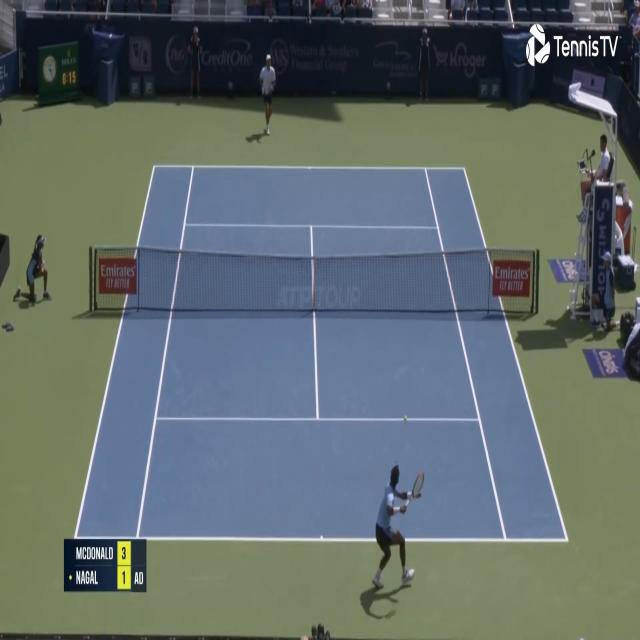tennis-player: (368, 460, 426, 595), (258, 43, 278, 137)
